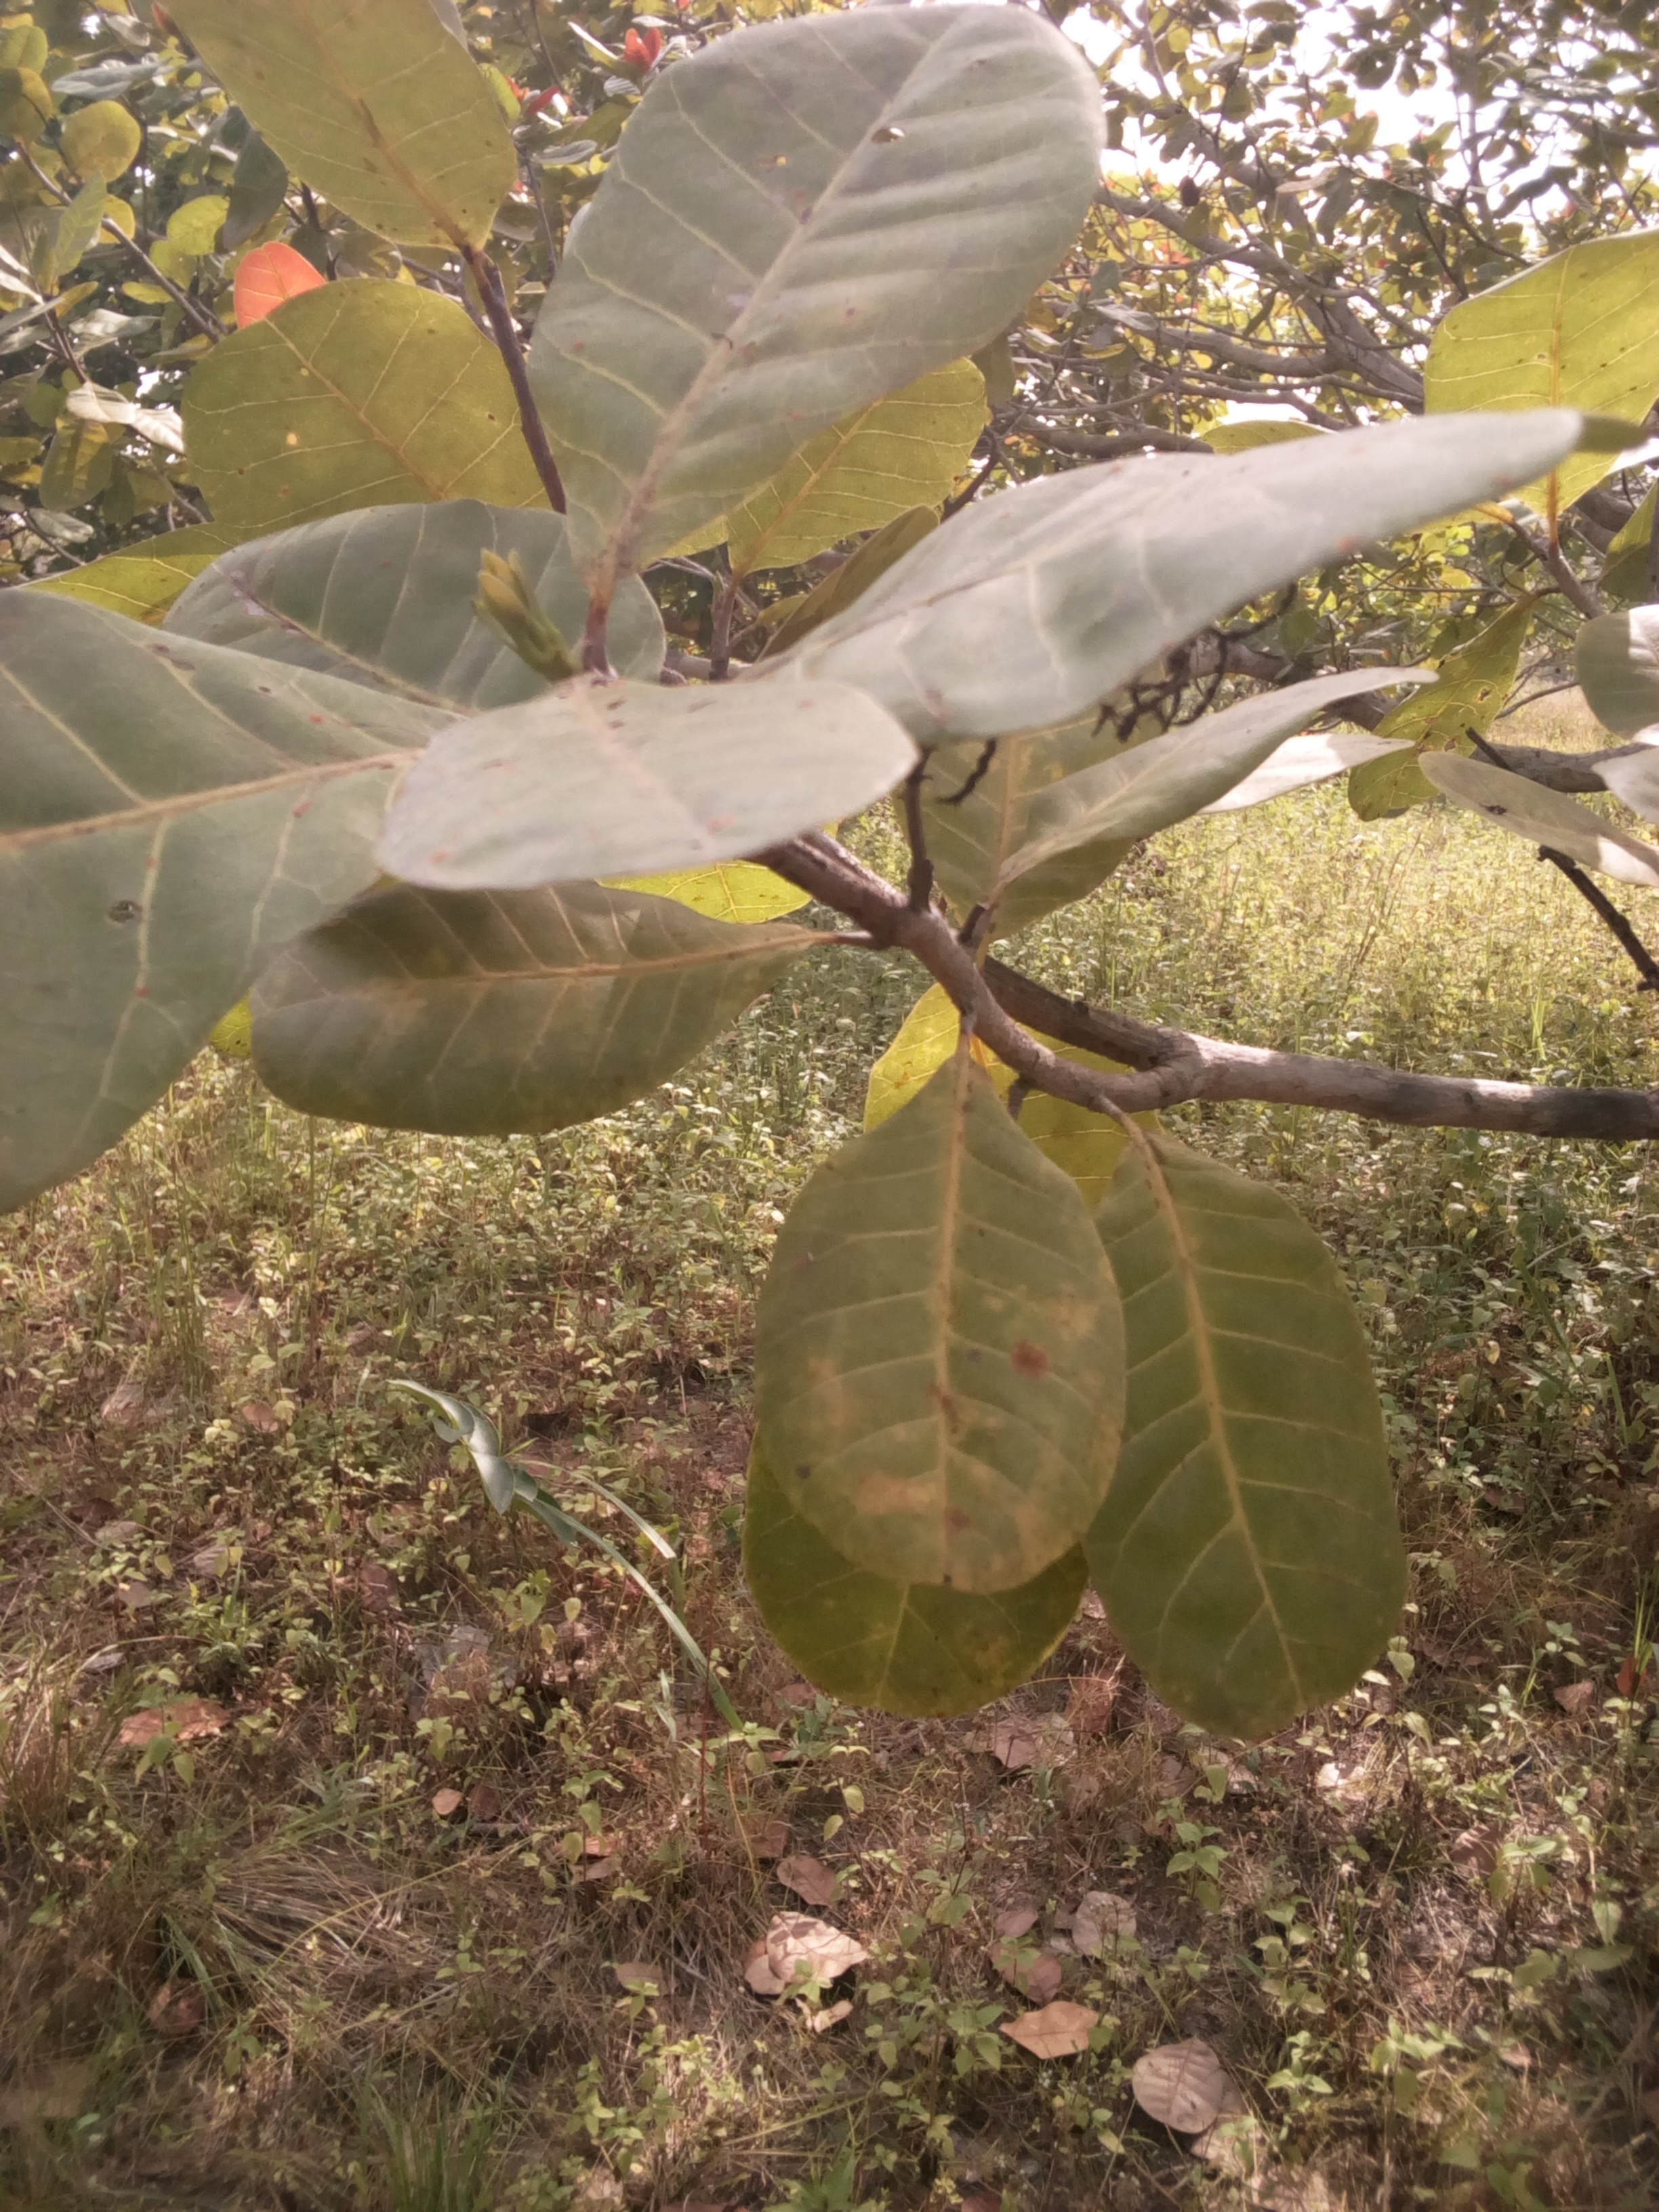Alternariose: (1053, 1120, 1396, 1743), (748, 1066, 1131, 1583)
